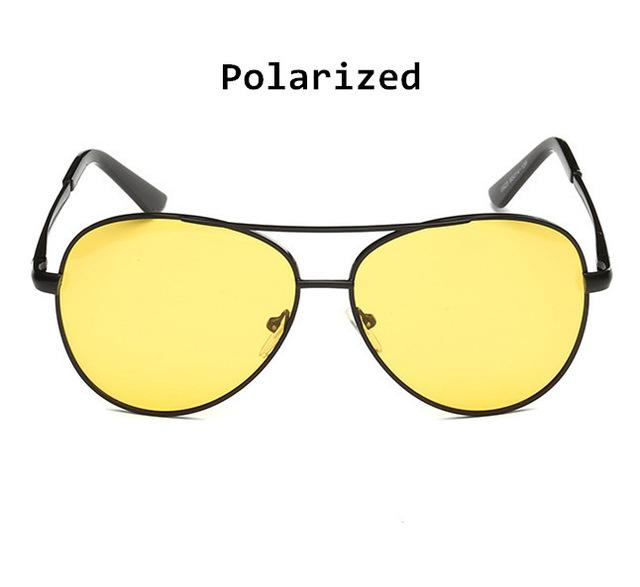sunglasses: (17, 141, 612, 428)
